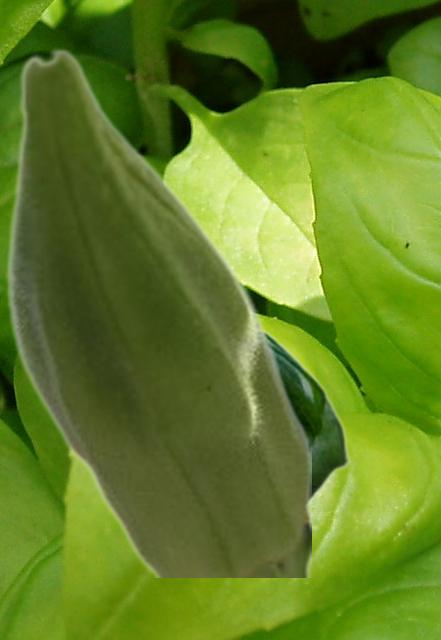okra: (5, 47, 310, 576), (266, 327, 349, 507)
